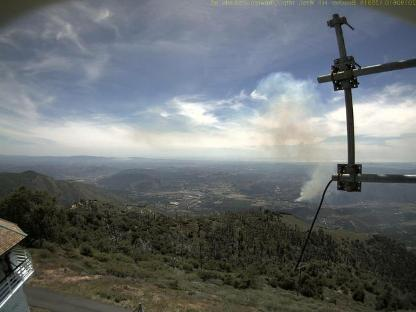smoke: (253, 72, 331, 202)
